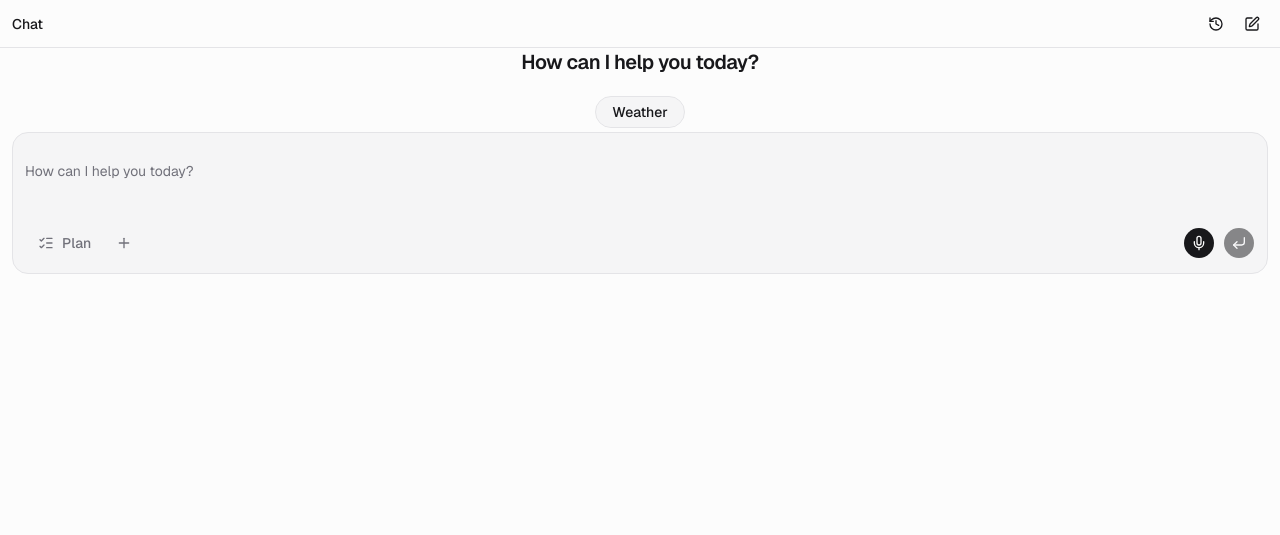
ChatPanel — the parts that keep a run moving › shows a card per parallel gate and answers each by its own toolCallId
Step 1. Click the button "Weather" → (640, 112), box [595, 96, 685, 128]
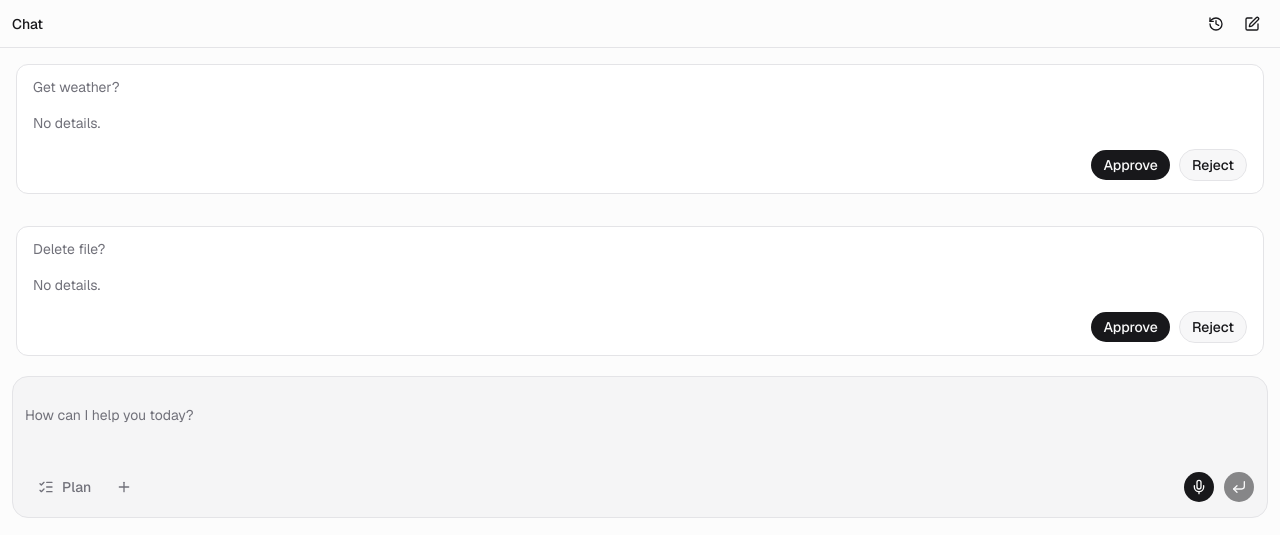
Now the text "Get weather?" is shown, box [33, 78, 120, 96]
Now the text "Delete file?" is shown, box [33, 240, 105, 258]
// Reject the SECOND card: it names c2, and the first stays answerable.
Step 2. Click the 2nd button "Reject" → (1213, 327), box [1179, 311, 1247, 343]
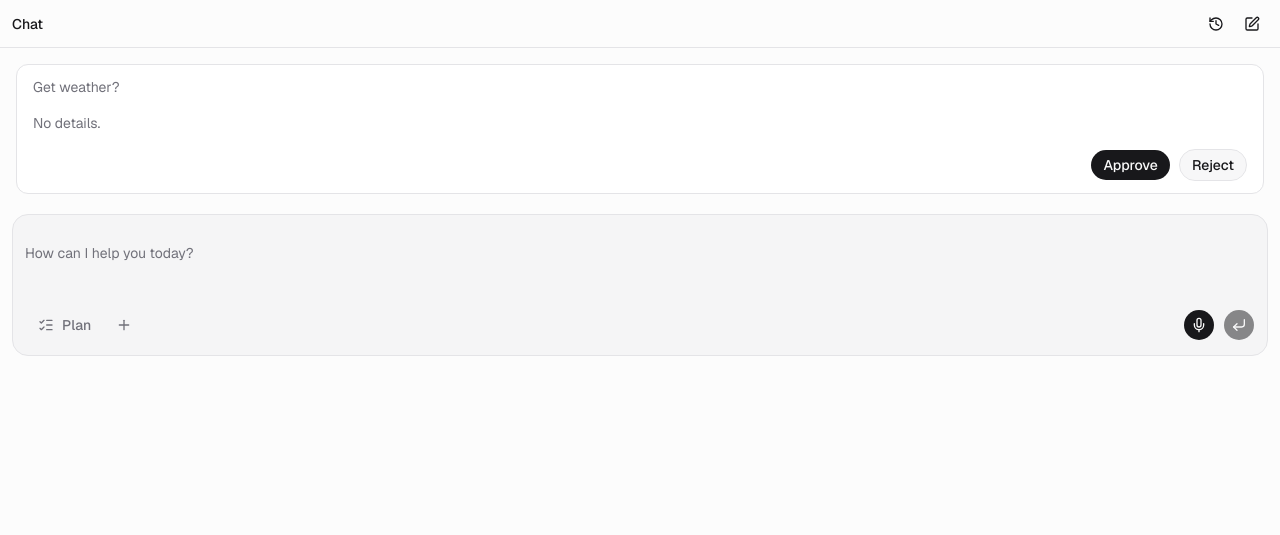
Now the text "Get weather?" is shown, box [33, 78, 120, 96]
Now the text "Delete file?" is gone
Step 3. Click the button "Approve" → (1131, 165), box [1090, 149, 1171, 181]
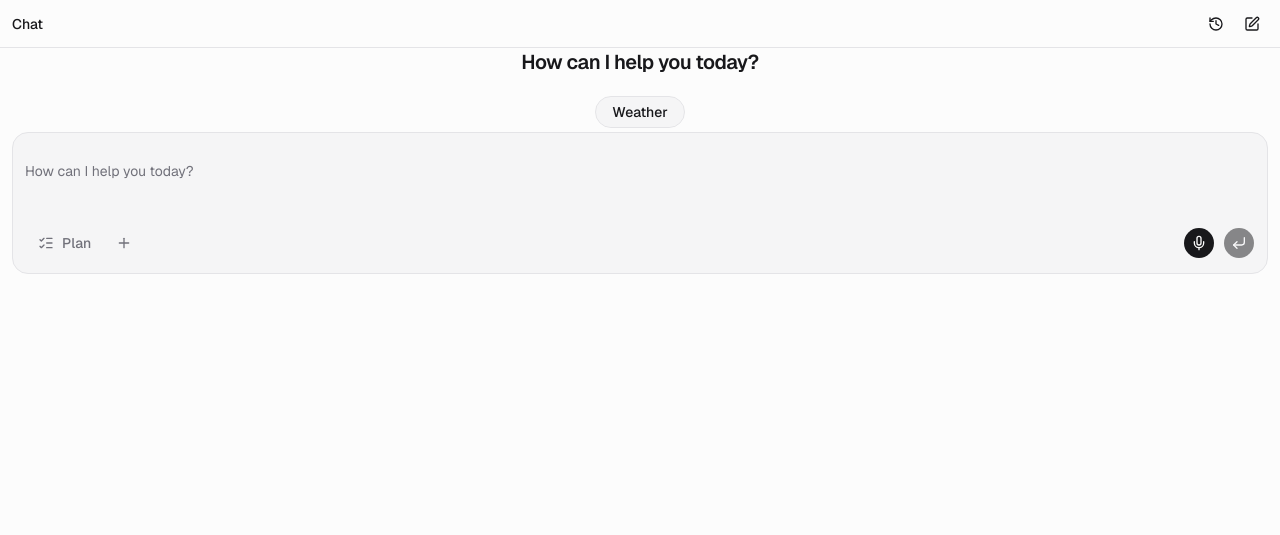
Now the text "Get weather?" is gone
